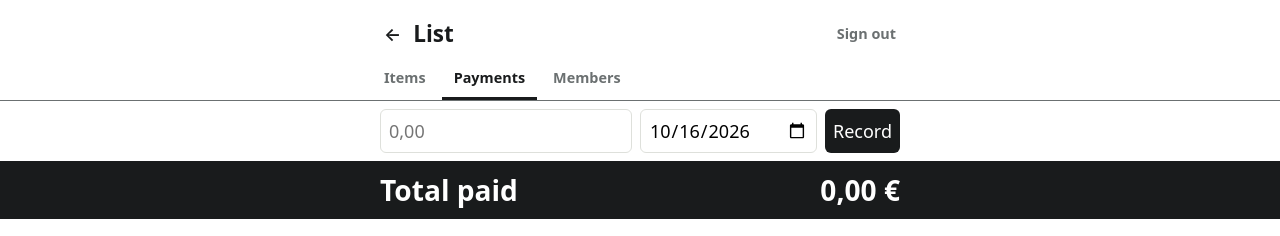
it: PaymentsView › rejects recording a Payment without a positive amount
Type "0" into the field named "payment-amount" at (506,131), box [380,109,632,153]
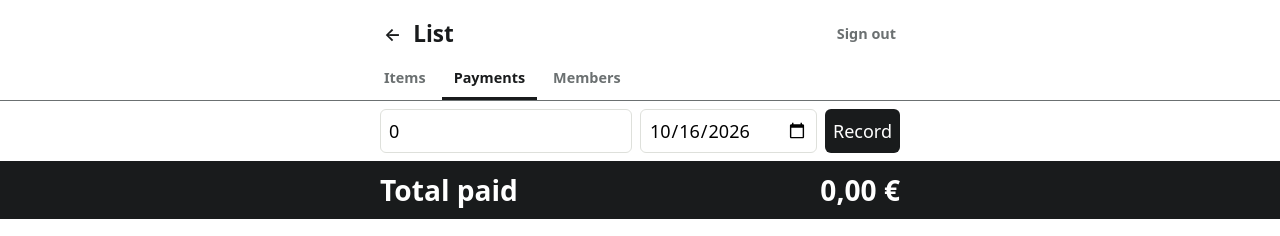
Type "2026-02-01" into the date field named "payment-date" at (728,131), box [640,109,817,153]
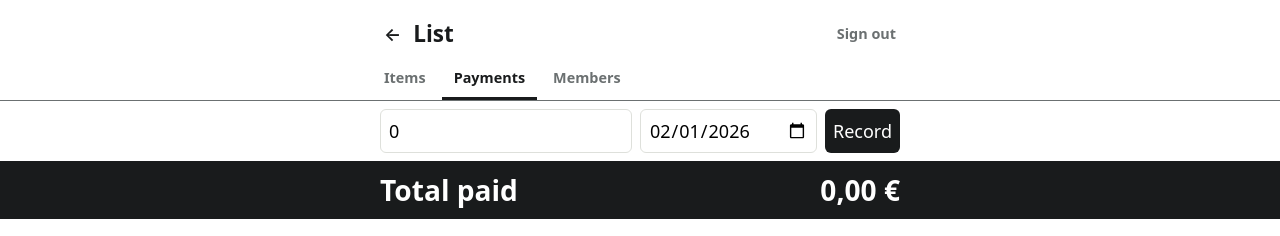
Submit the form, box [380,109,900,153]
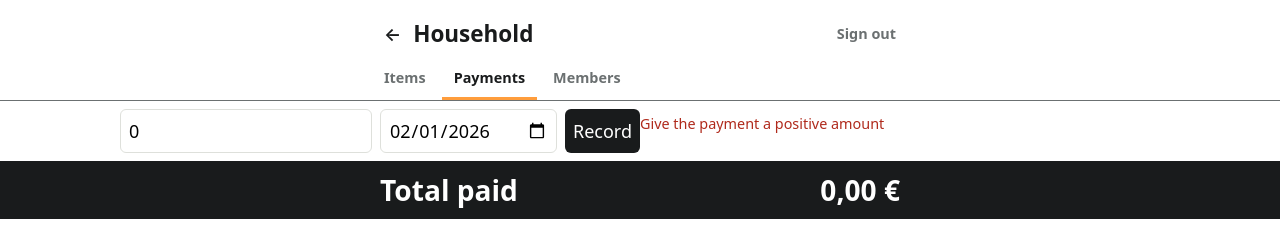
Expected: the text "Give the payment a positive amount" is shown, [640,114,884,133]
